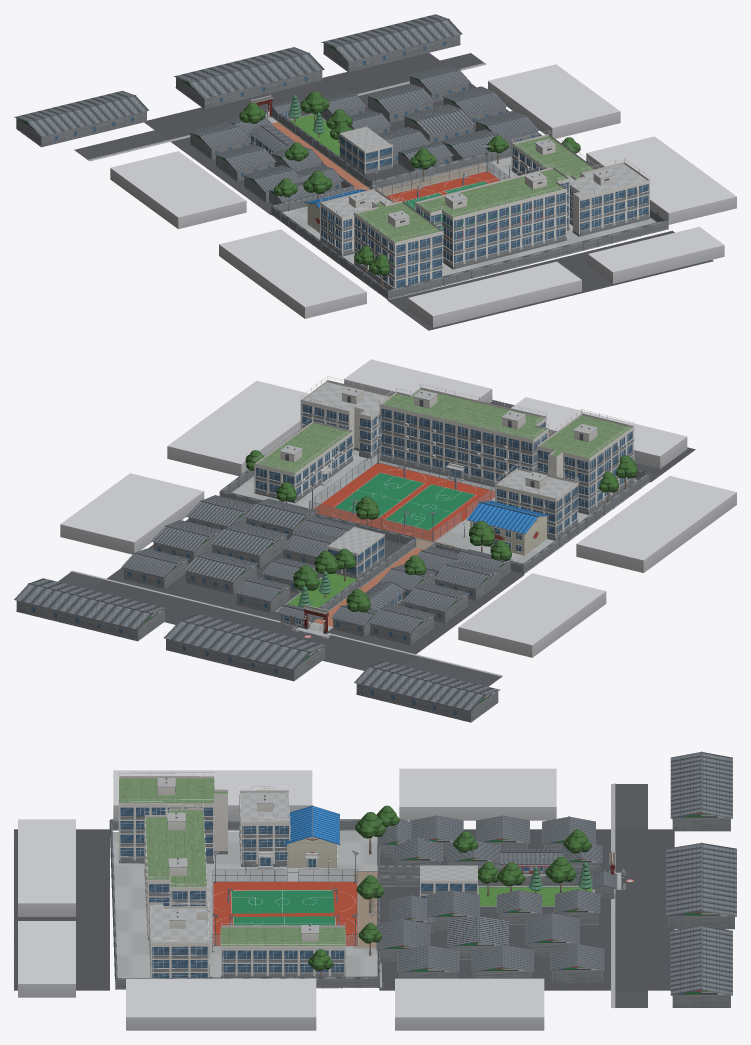
Rendered from east-campus-classic.glb.
The picture shows the model from 3 angles, top to bottom: view 1: azimuth 30°, elevation 25°; view 2: azimuth 150°, elevation 25°; view 3: azimuth 270°, elevation 25°; orthographic projection. The views are drawn at different scales.
Visible parts, largest first — view 1: Context_East, Campus_Ground_East, E-B1, E-B2, E-B3, E-N1, E-P1, E-B4, E-B5, E-G1; view 2: Context_East, Campus_Ground_East, E-B1, E-P1, E-B4, E-B2, E-B5, E-B3, E-N1, E-G1; view 3: Context_East, Campus_Ground_East, E-P1, E-B4, E-B2, E-B5, E-B1, E-N1, E-B3, E-G1.
Boxes of the visible parts, x1,y1,x2,y2 form: Context_East: (14, 14, 736, 327); Campus_Ground_East: (74, 53, 713, 330); E-B1: (415, 163, 569, 269); E-B2: (353, 197, 443, 289); E-B3: (563, 158, 650, 236); E-N1: (239, 91, 358, 161); E-P1: (373, 145, 550, 242); E-B4: (304, 185, 397, 256); E-B5: (511, 130, 599, 208); E-G1: (249, 94, 300, 121); Context_East: (14, 359, 736, 722); Campus_Ground_East: (58, 399, 695, 686); E-B1: (379, 383, 548, 486); E-P1: (309, 434, 499, 542); E-B4: (467, 463, 578, 555); E-B2: (536, 409, 634, 514); E-B5: (254, 417, 353, 503); E-B3: (300, 376, 403, 458); E-N1: (275, 548, 425, 612); E-G1: (277, 604, 328, 638); Context_East: (18, 751, 736, 1030); Campus_Ground_East: (14, 783, 674, 1008); E-P1: (210, 850, 358, 946); E-B4: (239, 786, 339, 869); E-B2: (118, 772, 228, 863); E-B5: (220, 921, 345, 977); E-B1: (144, 804, 211, 940); E-N1: (453, 829, 593, 906); E-B3: (149, 902, 214, 977); E-G1: (592, 850, 634, 898).
Size of the model in its own units: 149 by 18.54 by 175.
Materials: 30 (7 with a texture image).
